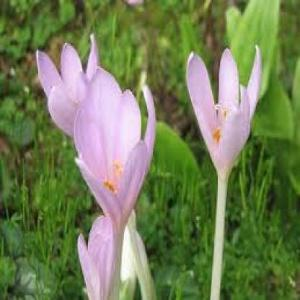Saffron: (89, 82, 155, 244), (191, 46, 262, 195), (38, 54, 113, 133)
